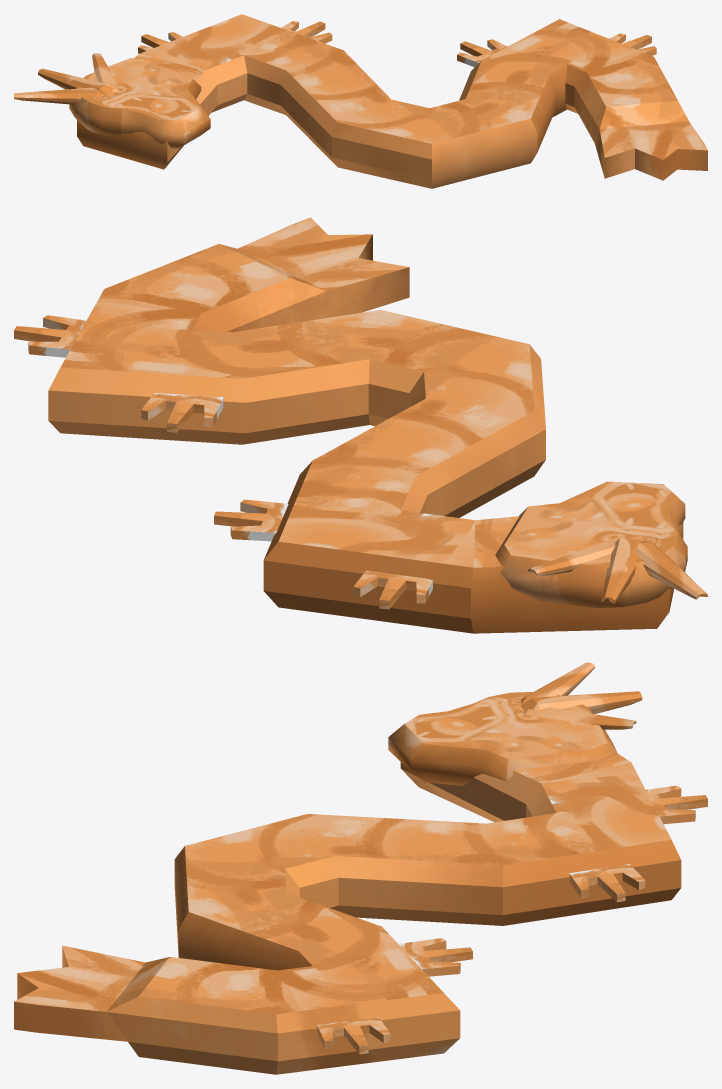
The model's file is fishKing.fbx.
3 views of the same model, one above another, from view 1: azimuth 30°, elevation 25°; view 2: azimuth 150°, elevation 25°; view 3: azimuth 270°, elevation 25° (orthographic). The views are drawn at different scales.
Parts seen in each view (by area): view 1: Box001; view 2: Box001; view 3: Box001.
Boxes of the visible parts, x1=… form: Box001: x1=14, y1=14, x2=707, y2=188; Box001: x1=14, y1=217, x2=707, y2=633; Box001: x1=14, y1=662, x2=707, y2=1074.
Size of the model in its own units: 165 by 15.9 by 133.
1 material, 1 textured.
